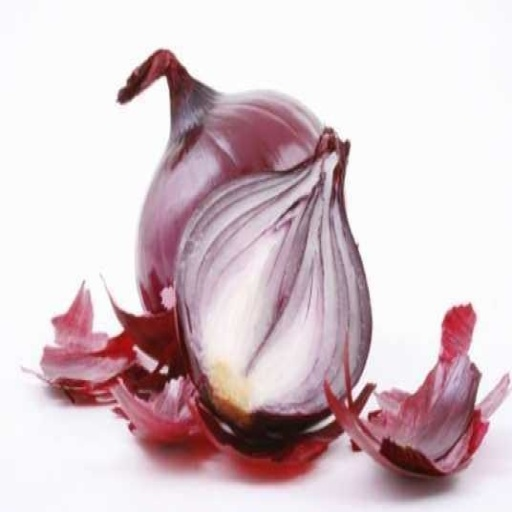Zwiebel: (173, 127, 373, 432)
